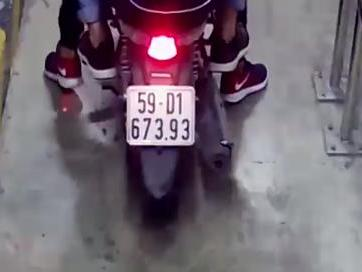num_plate: (128, 85, 196, 147)
